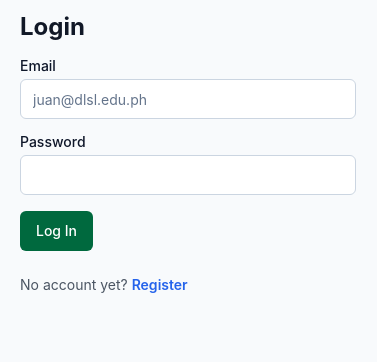
Test: LoginPage › shows both schema messages when the form is sent empty
Click the button "Log In". click: click(56, 231)
box: [20,211,93,251]
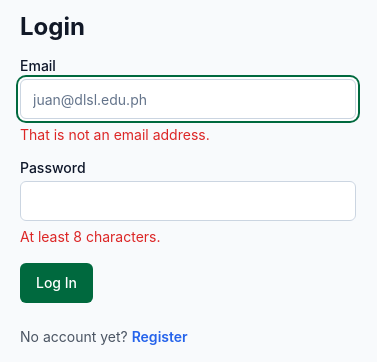
Now the text "That is not an email address." is shown, box [20,126,210,143]
Now the text "At least 8 characters." is shown, box [20,228,160,245]
